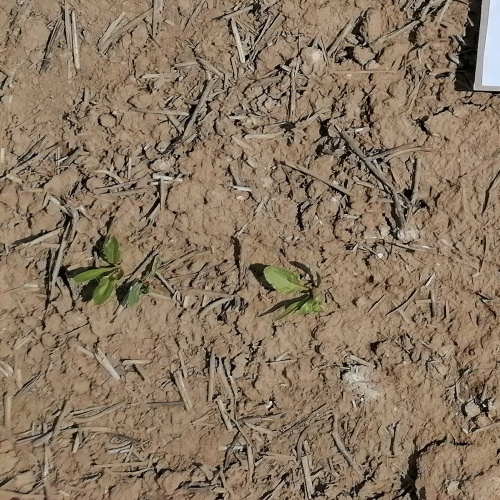beet: (74, 235, 124, 306), (263, 266, 325, 321)
